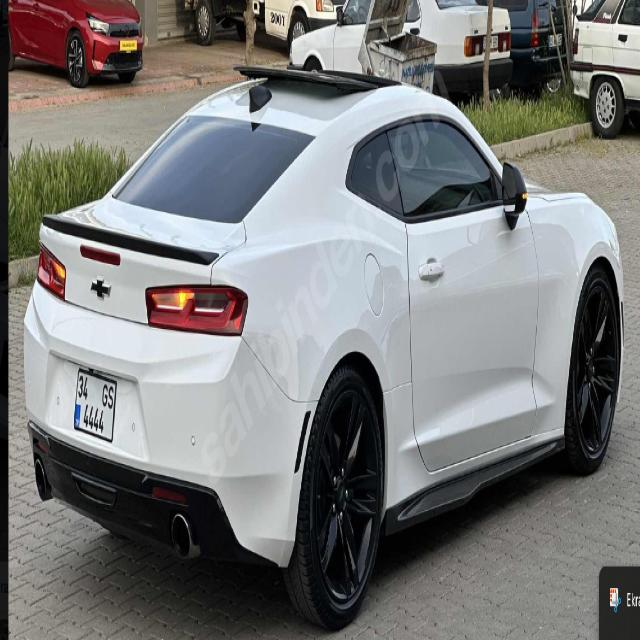chevrolet: (90, 275, 112, 307)
